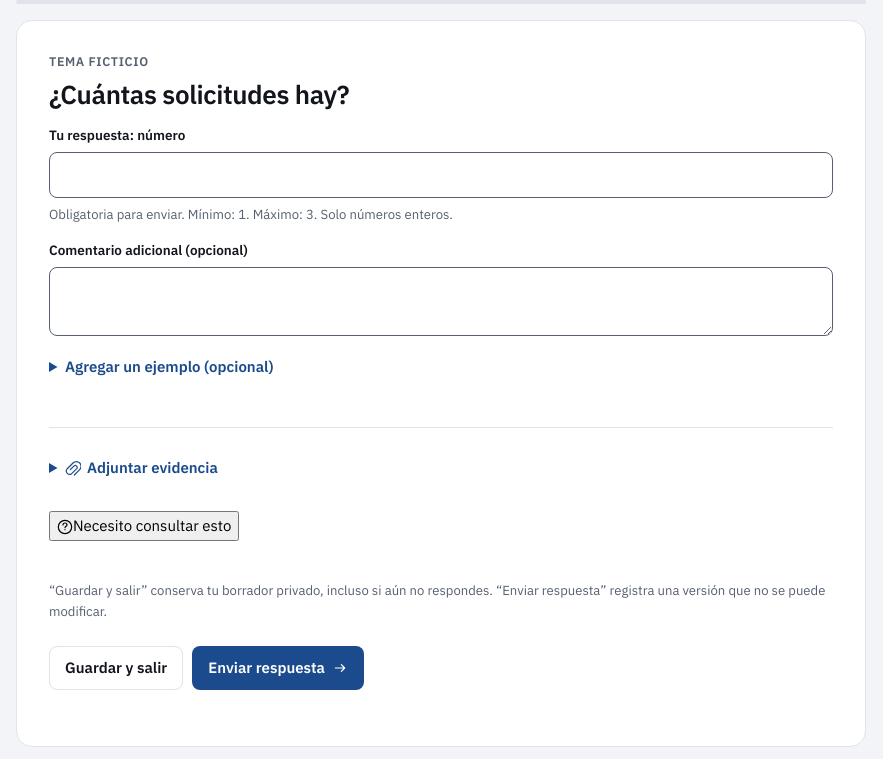
dos errores muestran un solo resumen, cada campo conserva su explicación
The width and height of the screenshot is (883, 759).
Type "2" into the field labelled "Tu respuesta: número". click: (441, 175)
box: [49,152,833,198]
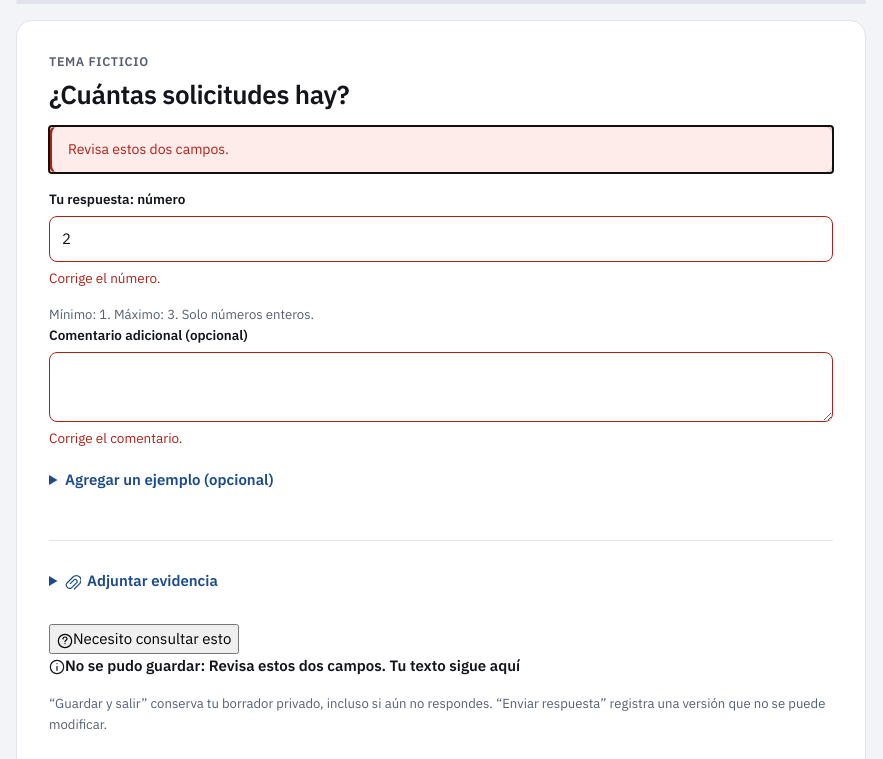
Check: the message "Revisa estos dos campos." is shown, box [49,126,833,173]
